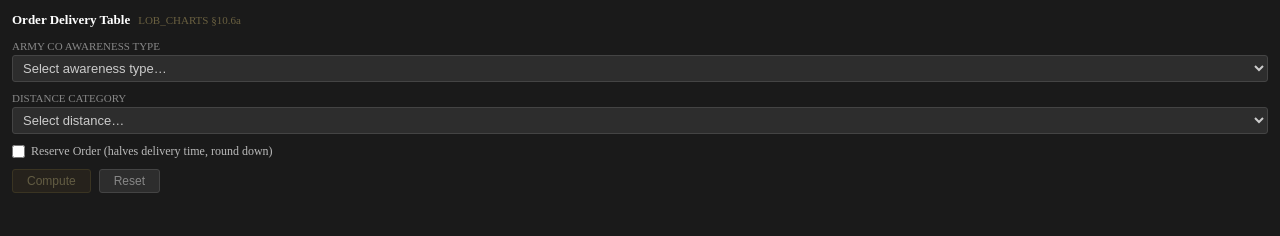
Scenario: OrderDeliveryPanel › displays error on fetch failure
This screenshot has width=1280, height=236.
Select "Normal (+2 turns) — SM default" in the dropdown labelled "Army CO Awareness Type" at (640,68), box x1=12 y1=55 x2=1268 y2=82
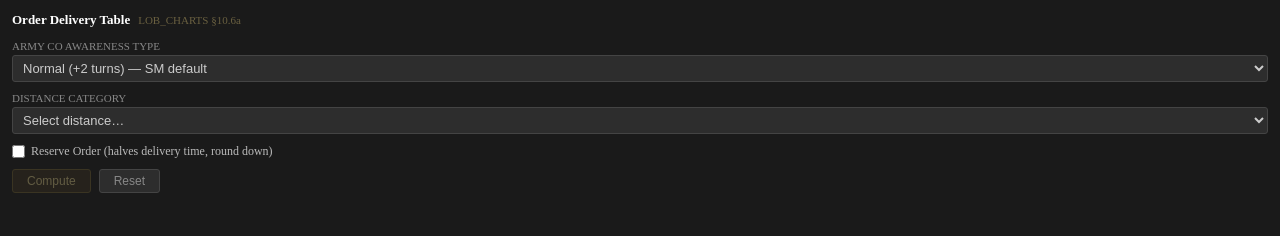
Select "Beyond Command Radius (+2 turns)" in the dropdown labelled "Distance Category" at (640,120), box x1=12 y1=107 x2=1268 y2=134
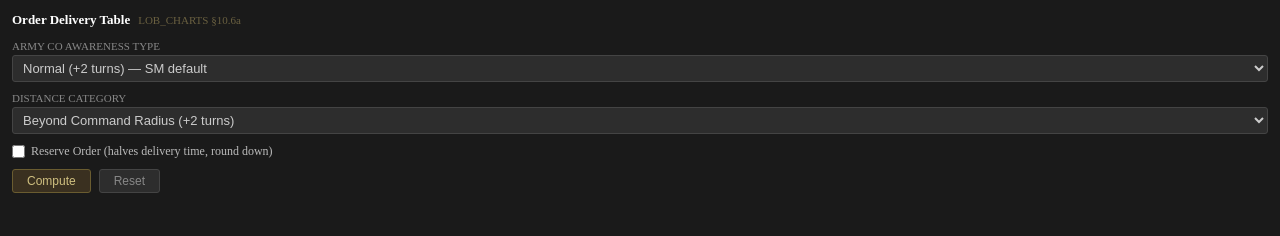
Click the button "Compute" at (51,181), box x1=12 y1=169 x2=91 y2=193
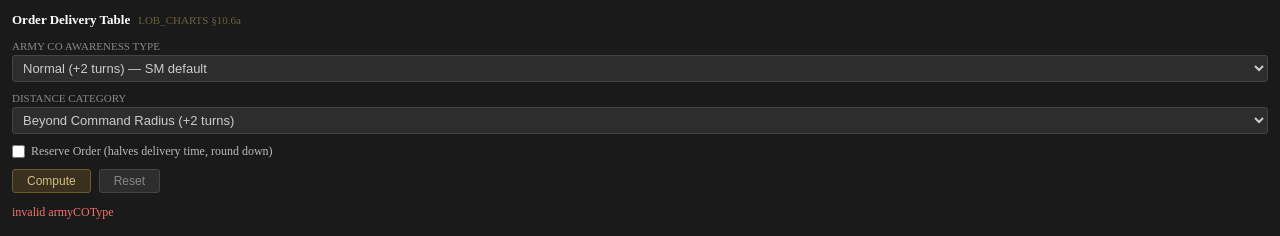
Now the text "invalid" is shown, box x1=12 y1=205 x2=114 y2=219
